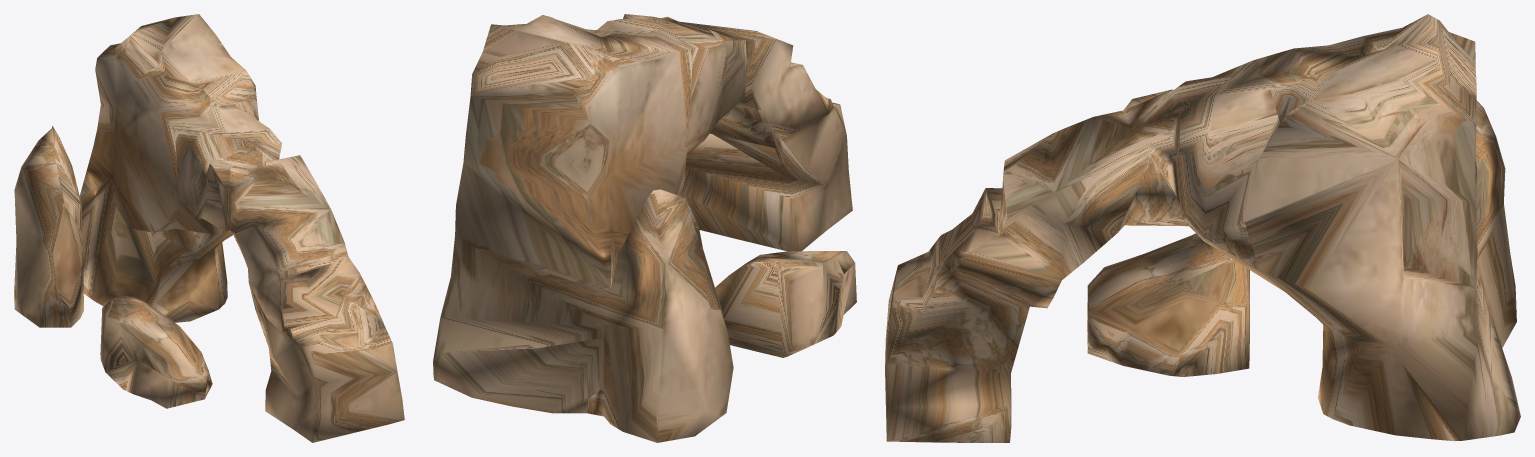
File: rock_slab_b_lod2.glb
3 views of the same model, side by side, from view 1: azimuth 30°, elevation 25°; view 2: azimuth 150°, elevation 25°; view 3: azimuth 270°, elevation 25° (orthographic). The views are drawn at different scales.
Parts seen in each view (by area): view 1: model.005; view 2: model.005; view 3: model.005.
Part boxes in pixels (x1,y1,x2,y2): model.005: [14, 14, 404, 442]; model.005: [433, 14, 856, 442]; model.005: [885, 14, 1520, 442].
Bounding box in the file's own units: 0.9619 × 1.24 × 1.9.
Materials: 1 (1 with a texture image).
